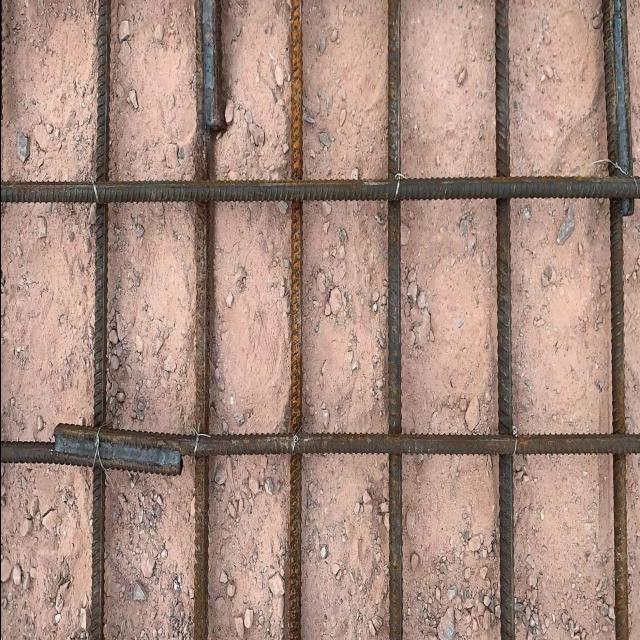ribbed bar: (1, 431, 640, 467), (601, 2, 629, 640), (1, 179, 640, 202), (494, 2, 514, 640), (90, 2, 110, 640), (385, 2, 403, 640), (285, 2, 303, 640), (192, 2, 208, 640)
